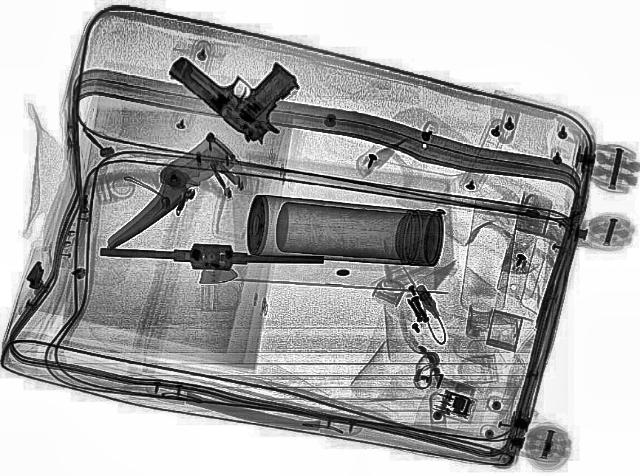Gun: (154, 25, 330, 147)
